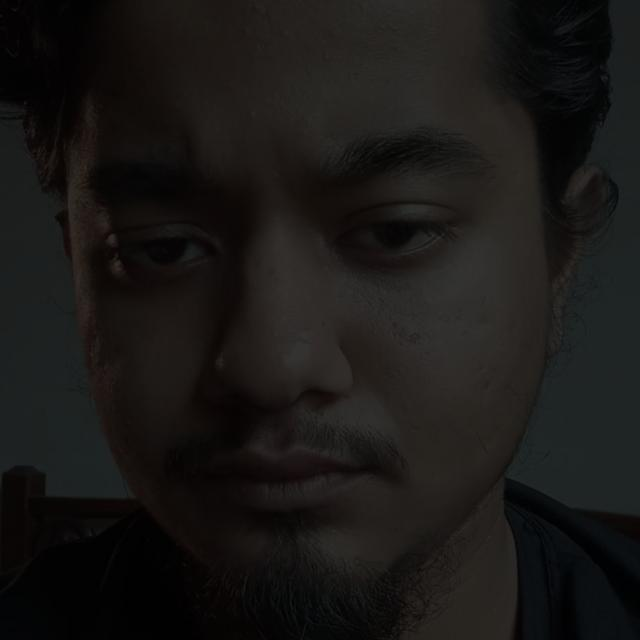Sad: (36, 66, 545, 573)
